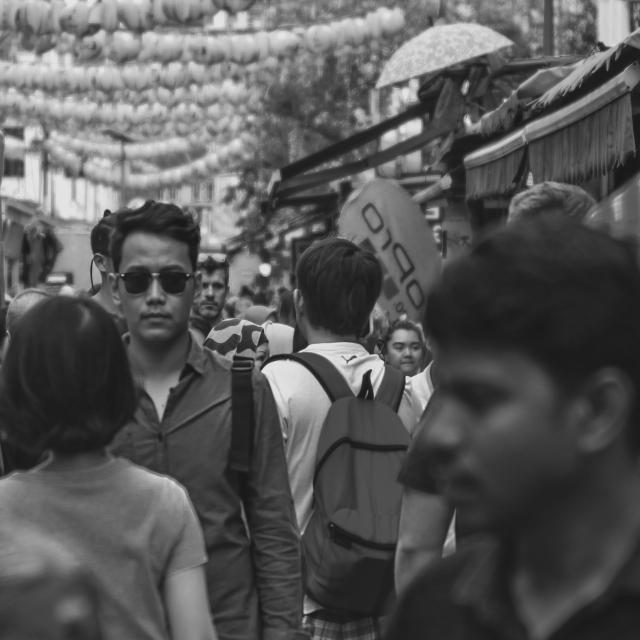adult: (58, 197, 291, 640)
